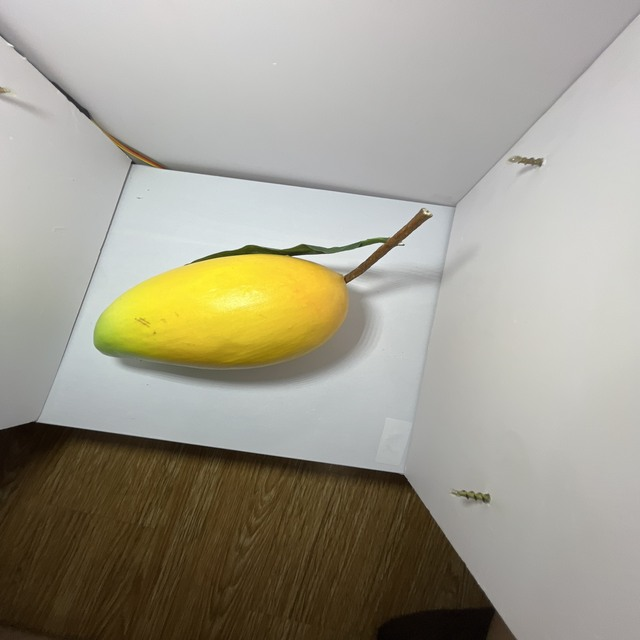Xoai: (88, 252, 356, 375)
